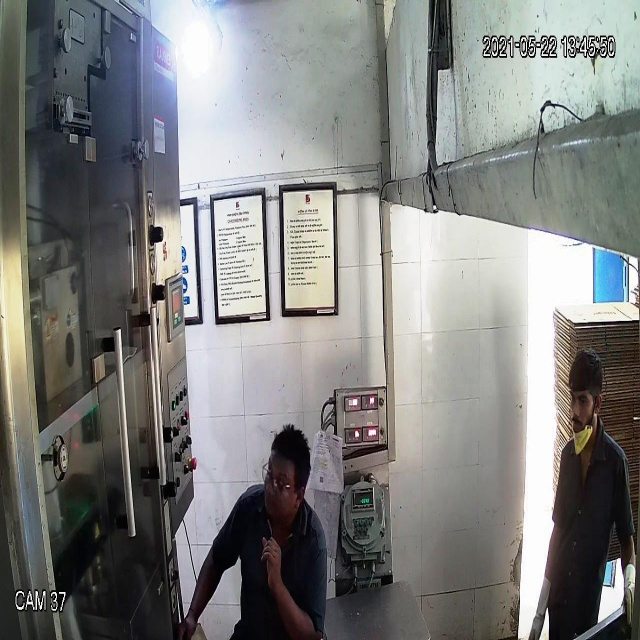Gafas: (258, 461, 300, 500)
Sin_gafas: (565, 384, 597, 413)
